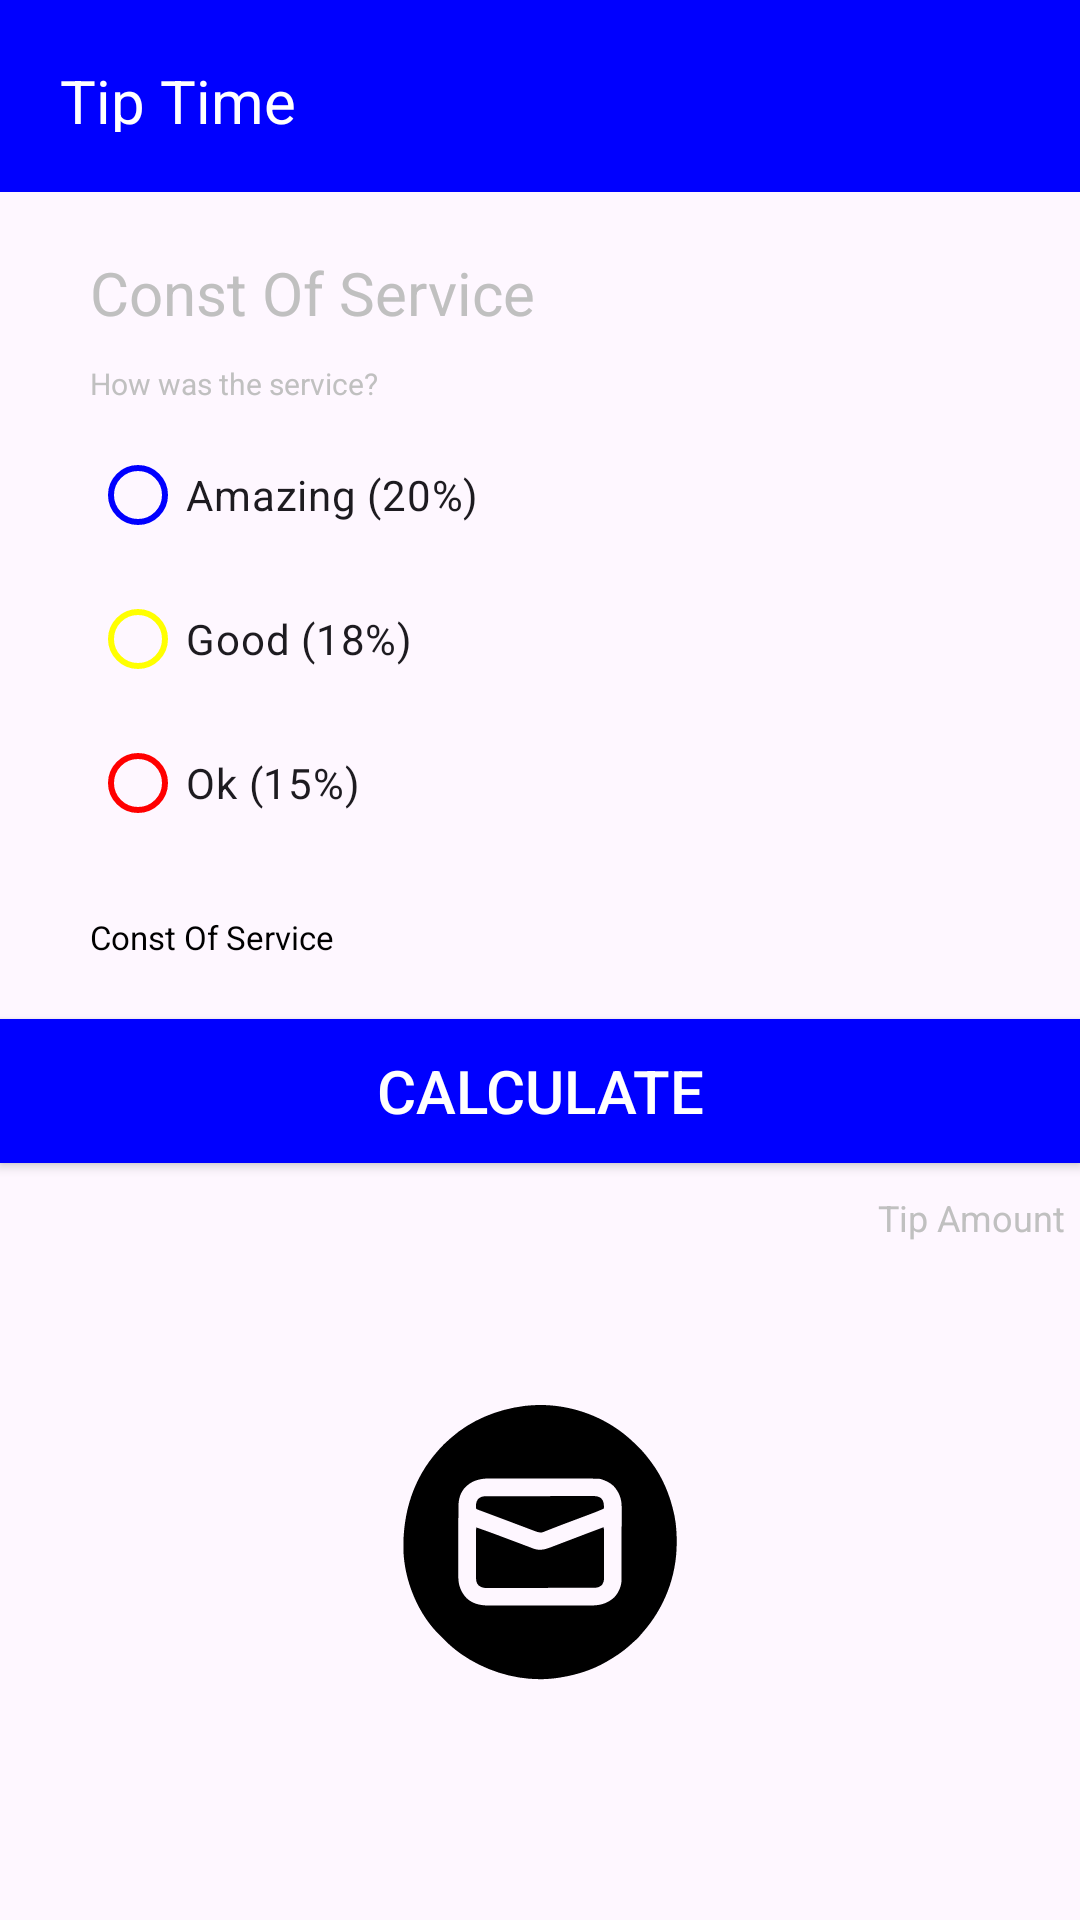

Screen size 1080px x 1920px. Icon name, then its box in pixels as bbox(x1, y1, x2, y2):
email: bbox(403, 1405, 677, 1680)
